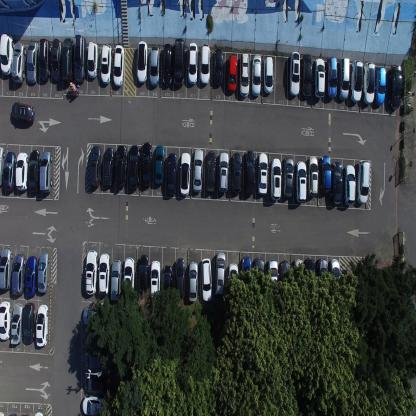car: (355, 159, 370, 204), (387, 64, 401, 109), (88, 144, 102, 188), (11, 252, 25, 296), (0, 32, 14, 76), (12, 41, 26, 85), (39, 150, 53, 193), (112, 44, 126, 87), (85, 249, 98, 295), (127, 144, 140, 189), (123, 255, 135, 303), (61, 36, 73, 84), (74, 34, 86, 82), (0, 246, 13, 290), (10, 302, 23, 346), (350, 59, 363, 103), (294, 160, 307, 204), (28, 147, 40, 194), (2, 151, 16, 191), (165, 152, 178, 195), (343, 163, 356, 206), (114, 142, 126, 188), (11, 101, 35, 124), (301, 52, 313, 98), (173, 37, 184, 87), (179, 151, 191, 196), (36, 303, 48, 348), (15, 150, 28, 191), (174, 256, 186, 300), (82, 394, 106, 416), (26, 40, 38, 84), (100, 42, 112, 86), (338, 56, 350, 100), (270, 157, 282, 201), (331, 160, 343, 204), (23, 301, 35, 344), (363, 61, 375, 104), (266, 259, 279, 298), (289, 50, 300, 96), (110, 258, 122, 300), (37, 251, 49, 293), (25, 256, 37, 298), (38, 38, 50, 80), (313, 56, 325, 98), (83, 305, 108, 325), (83, 372, 108, 392), (140, 141, 151, 186), (215, 251, 226, 296), (99, 252, 110, 297), (0, 299, 12, 340), (192, 148, 203, 192), (201, 258, 212, 302), (240, 256, 251, 300), (187, 42, 198, 86), (50, 37, 61, 81), (137, 40, 148, 84), (283, 155, 294, 199), (316, 256, 328, 296), (329, 258, 341, 298), (375, 65, 387, 105), (244, 148, 254, 196), (161, 43, 172, 86), (227, 263, 238, 306), (162, 265, 173, 308), (251, 54, 262, 97), (239, 51, 249, 98), (218, 151, 229, 193), (231, 151, 242, 193), (149, 45, 160, 87), (84, 326, 106, 347), (84, 350, 107, 370), (292, 259, 304, 297), (86, 41, 98, 79), (200, 43, 211, 84), (308, 155, 319, 196), (138, 254, 148, 298), (327, 56, 337, 100), (320, 154, 331, 194), (254, 256, 264, 299), (154, 144, 164, 186), (205, 150, 215, 192), (258, 152, 268, 194), (279, 260, 290, 298), (188, 261, 198, 302), (150, 259, 160, 300), (103, 146, 113, 186), (227, 52, 237, 92), (264, 55, 274, 94), (304, 256, 314, 294), (214, 47, 223, 86), (0, 144, 5, 186), (34, 409, 44, 415), (9, 410, 18, 416), (21, 411, 30, 415), (0, 409, 5, 415)
